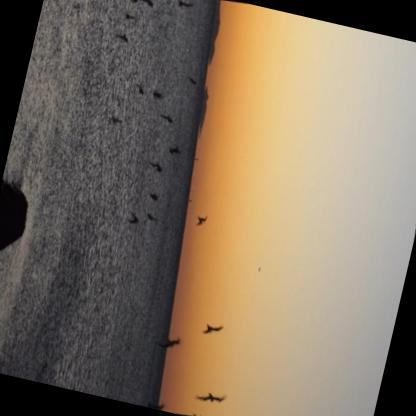bird: (193, 386, 229, 408), (197, 318, 226, 339), (140, 394, 170, 412), (159, 333, 184, 352), (124, 210, 145, 228), (193, 211, 212, 229), (165, 142, 185, 158), (145, 159, 165, 174), (123, 8, 139, 23), (115, 31, 133, 44), (148, 189, 163, 204), (151, 88, 167, 102), (145, 212, 162, 225), (159, 112, 177, 124), (137, 0, 158, 10), (174, 0, 194, 10), (187, 76, 201, 88), (119, 0, 139, 5)
